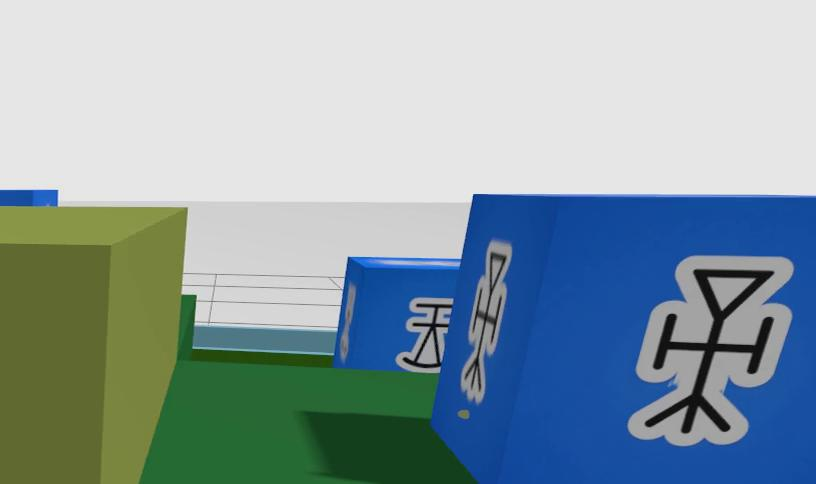KFS_REAL: (431, 195, 815, 484), (627, 255, 792, 445), (335, 258, 458, 372), (460, 239, 512, 402), (396, 297, 451, 371)
